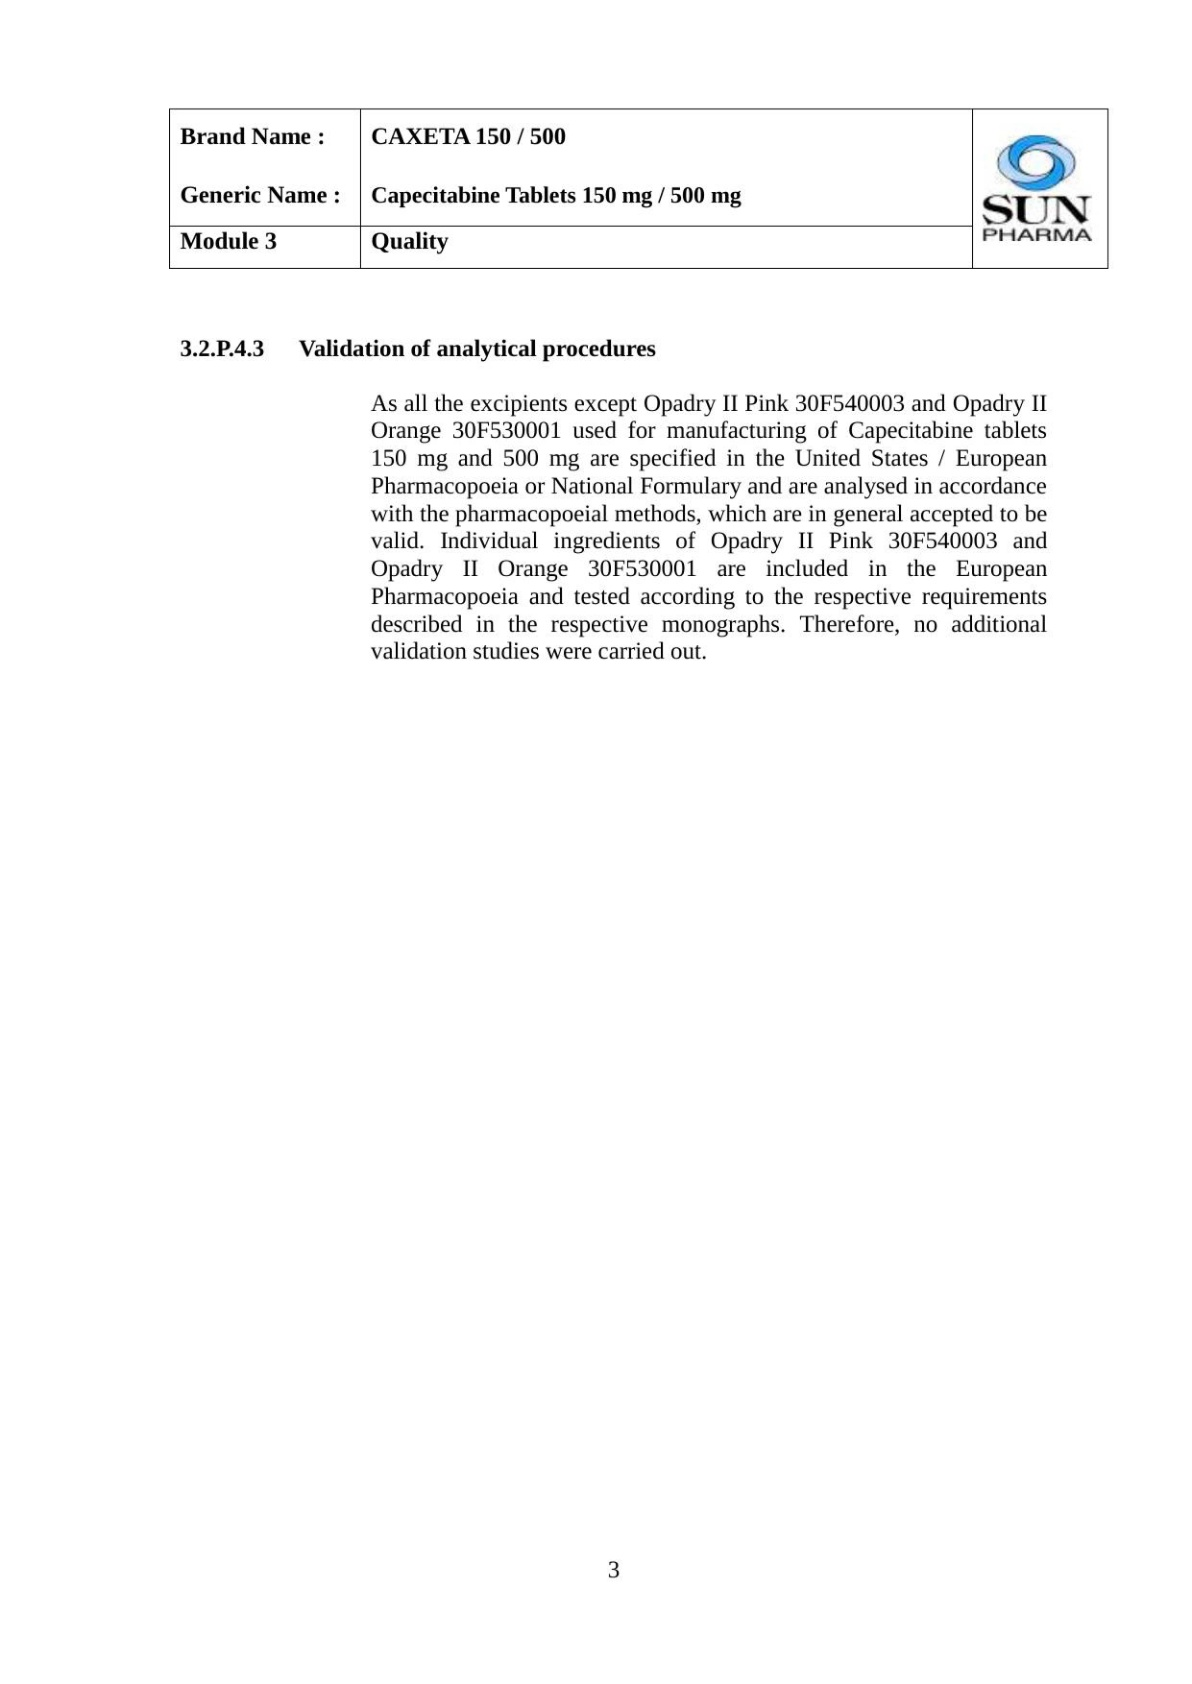merged_cells: (166, 106, 1109, 271)
